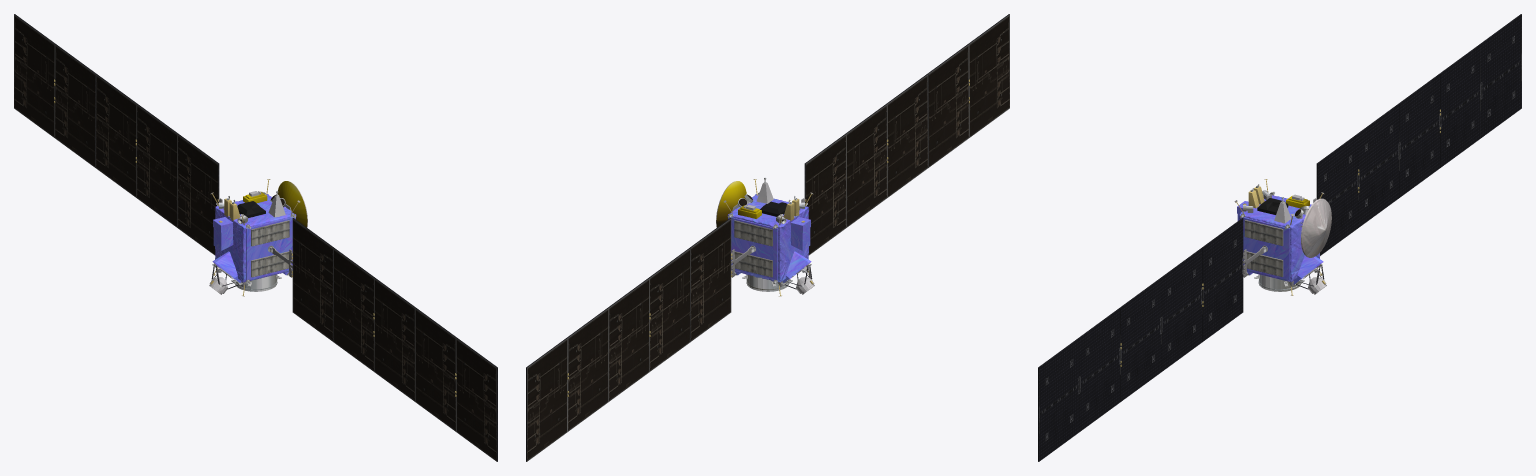
Rendered from dawn.obj.
3 views of the same model, side by side, from view 1: azimuth 30°, elevation 25°; view 2: azimuth 150°, elevation 25°; view 3: azimuth 330°, elevation 25° (orthographic).
Parts seen in each view (by area): view 1: tex_01.002_Mesh_(2).000, black_krinkle_Mesh_(2).006, tex_01_Mesh_(2).010, foil_silver_2_Mesh_(2).015, foil_gold_Mesh_(2).014; view 2: tex_01.002_Mesh_(2).000, black_krinkle_Mesh_(2).006, tex_01_Mesh_(2).010, foil_silver_2_Mesh_(2).015, foil_gold_Mesh_(2).014; view 3: tex_01.002_Mesh_(2).000, black_krinkle_Mesh_(2).006, tex_01_Mesh_(2).010, foil_silver_2_Mesh_(2).015.
Part boxes in pixels (<box>): tex_01.002_Mesh_(2).000: <box>14,14,497,461</box>; black_krinkle_Mesh_(2).006: <box>212,194,296,282</box>; tex_01_Mesh_(2).010: <box>209,179,300,296</box>; foil_silver_2_Mesh_(2).015: <box>277,181,307,227</box>; foil_gold_Mesh_(2).014: <box>213,191,267,250</box>; tex_01.002_Mesh_(2).000: <box>526,14,1009,461</box>; black_krinkle_Mesh_(2).006: <box>727,183,811,282</box>; tex_01_Mesh_(2).010: <box>723,177,814,296</box>; foil_silver_2_Mesh_(2).015: <box>716,181,746,227</box>; foil_gold_Mesh_(2).014: <box>738,204,810,250</box>; tex_01.002_Mesh_(2).000: <box>1038,14,1521,461</box>; black_krinkle_Mesh_(2).006: <box>1239,186,1323,284</box>; tex_01_Mesh_(2).010: <box>1234,179,1326,295</box>; foil_silver_2_Mesh_(2).015: <box>1301,198,1331,257</box>.
Bounding box in the file's own units: 0.2215 × 0.22 × 1.97.
